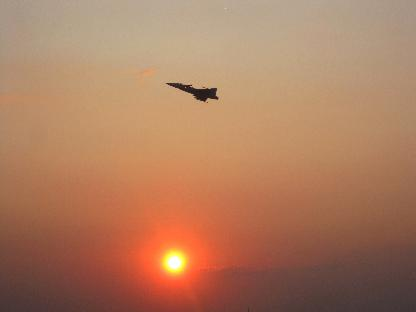JAS39: (162, 82, 218, 102)
